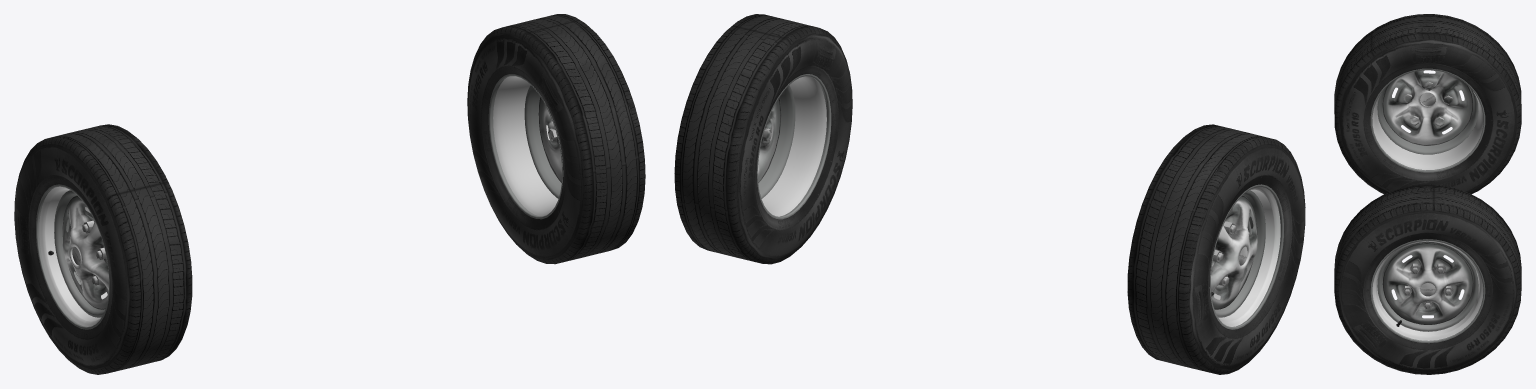
File: WheelsTest.glb
The picture shows the model from 3 angles, left to right: view 1: azimuth 30°, elevation 25°; view 2: azimuth 150°, elevation 25°; view 3: azimuth 270°, elevation 25°; orthographic projection. The views are drawn at different scales.
Parts seen in each view (by area): view 1: FrontTire&Rim, Wheel1Front; view 2: FrontTire&Rim, Wheel1Front; view 3: FrontTire&Rim, Wheel1Front.
Boxes of the visible parts, x1,y1,x2,y2 form: FrontTire&Rim: (14, 14, 645, 374); Wheel1Front: (54, 85, 562, 317); FrontTire&Rim: (674, 14, 1305, 374); Wheel1Front: (757, 85, 1265, 317); FrontTire&Rim: (1334, 14, 1521, 374); Wheel1Front: (1377, 70, 1478, 331).
Size of what is drawn, in the model's own units: 3.5 by 1.41 by 1.41.
Materials: 3 (3 with a texture image).
